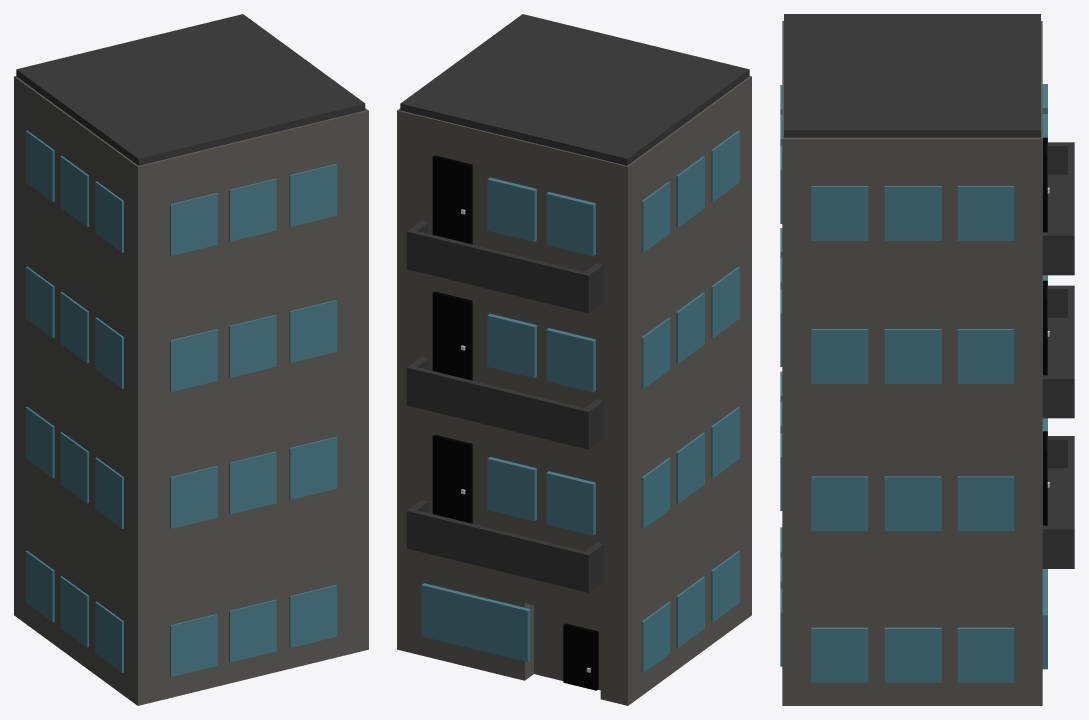
File: building2.glb
The picture shows the model from 3 angles, left to right: view 1: azimuth 30°, elevation 25°; view 2: azimuth 150°, elevation 25°; view 3: azimuth 270°, elevation 25°; orthographic projection. The views are drawn at different scales.
Parts seen in each view (by area): view 1: Cube, Cube.041, Cube.032, Cube.037, Cube.043, Cube.031, Cube.033, Cube.029, Cube.030, Cube.034, Cube.036, Cube.044 (+14 smaller); view 2: Cube, Cube.041, Cube.053, Cube.008, Cube.002, Cube.010, Cube.003, Cube.007, Cube.054, Cube.001, Cube.006, Cube.009 (+16 smaller); view 3: Cube, Cube.041, Cube.008, Cube.053, Cube.002, Cube.020, Cube.021, Cube.024, Cube.025, Cube.022, Cube.023, Cube.026 (+9 smaller).
Boxes of the visible parts, bbox=[...] form: Cube: bbox=[14, 76, 368, 705]; Cube.041: bbox=[16, 14, 365, 165]; Cube.032: bbox=[289, 436, 337, 499]; Cube.037: bbox=[289, 585, 337, 647]; Cube.043: bbox=[289, 164, 337, 226]; Cube.031: bbox=[289, 300, 337, 362]; Cube.033: bbox=[229, 451, 276, 514]; Cube.029: bbox=[170, 329, 217, 392]; Cube.030: bbox=[229, 314, 276, 377]; Cube.034: bbox=[170, 466, 217, 528]; Cube.036: bbox=[229, 599, 276, 662]; Cube.044: bbox=[229, 178, 276, 241]; Cube: bbox=[397, 76, 751, 705]; Cube.041: bbox=[400, 14, 749, 165]; Cube.053: bbox=[406, 220, 603, 313]; Cube.008: bbox=[406, 356, 603, 449]; Cube.002: bbox=[406, 500, 603, 592]; Cube.010: bbox=[421, 583, 530, 661]; Cube.003: bbox=[432, 434, 472, 523]; Cube.007: bbox=[432, 291, 472, 380]; Cube.054: bbox=[432, 155, 472, 244]; Cube.001: bbox=[487, 457, 536, 521]; Cube.006: bbox=[546, 328, 595, 392]; Cube.009: bbox=[487, 313, 536, 378]; Cube: bbox=[782, 21, 1042, 705]; Cube.041: bbox=[784, 14, 1040, 137]; Cube.008: bbox=[1042, 285, 1074, 418]; Cube.053: bbox=[1042, 142, 1074, 275]; Cube.002: bbox=[1042, 436, 1074, 568]; Cube.020: bbox=[811, 627, 868, 682]; Cube.021: bbox=[884, 627, 941, 682]; Cube.024: bbox=[884, 476, 941, 531]; Cube.025: bbox=[811, 476, 868, 531]; Cube.022: bbox=[957, 627, 1014, 682]; Cube.023: bbox=[957, 476, 1014, 531]; Cube.026: bbox=[811, 329, 868, 383].
Size of the model in its own units: 3.6 by 7.99 by 3.71.
